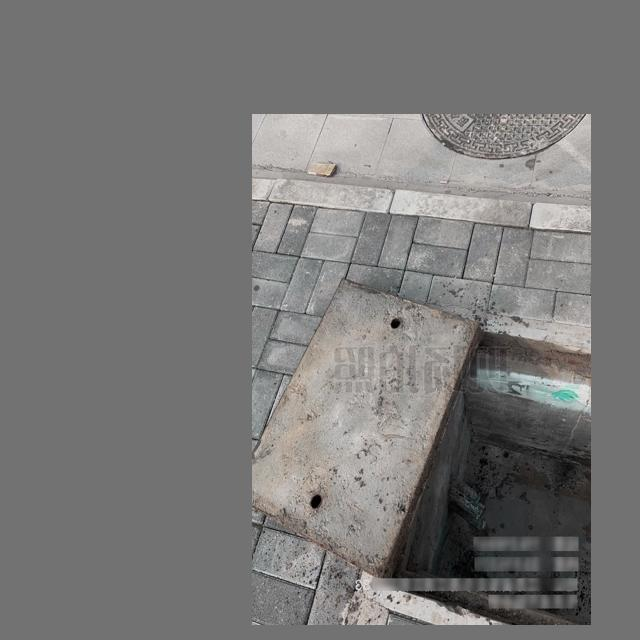uncovered: (252, 279, 590, 615)
